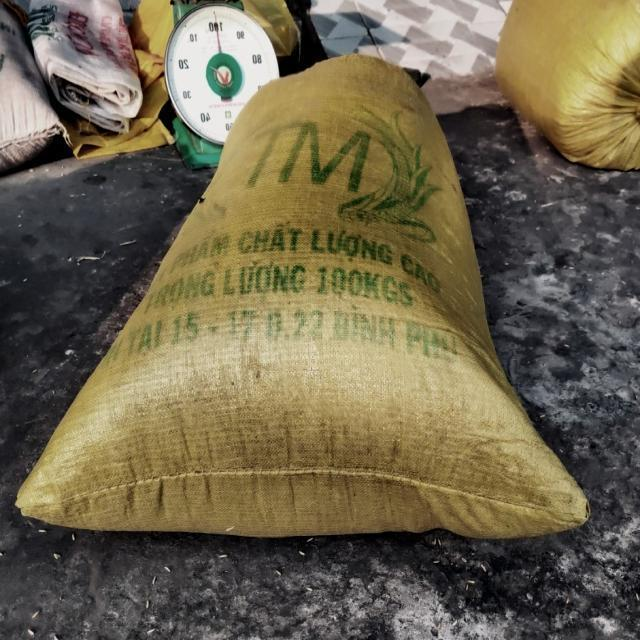gunny_bag: (15, 56, 590, 538)
